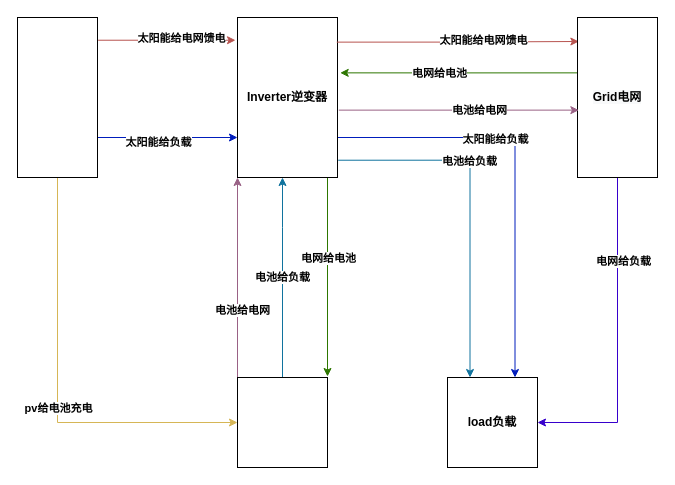
Some shapes in this 675 by 485 pixel diagram are drawn without their labels. Here are the shapes that lost their labels. From the top down, the centre of each, then its label:
At [57,97]: "pv太阳能".
At [282,422]: "battery电池".
